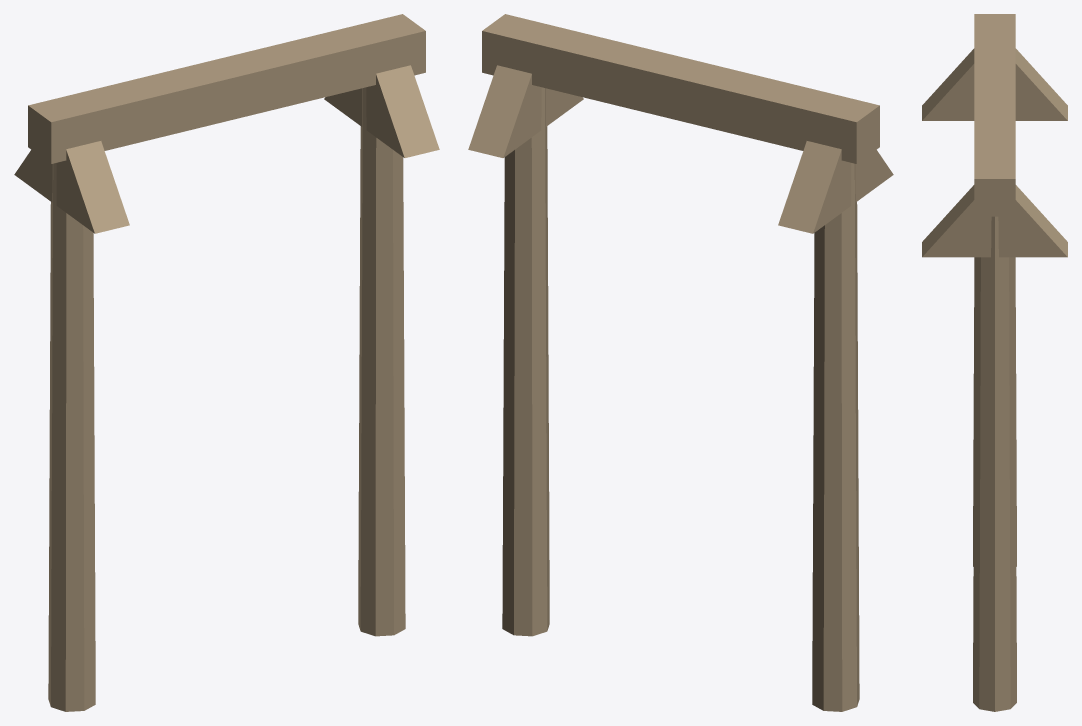
File: trench-line-1917-trench-frame-e513f8cf__24053.glb
3 renders of one model, left to right at view 1: azimuth 30°, elevation 25°; view 2: azimuth 150°, elevation 25°; view 3: azimuth 270°, elevation 25°, orthographic. The views are drawn at different scales.
Parts seen in each view (by area): view 1: trench-frame; view 2: trench-frame; view 3: trench-frame.
Boxes of the visible parts, left/top/right/bottom form: trench-frame: left=14, top=14, right=439, bottom=711; trench-frame: left=468, top=14, right=893, bottom=711; trench-frame: left=922, top=14, right=1067, bottom=711.
Size of the model in its own units: 1.5 by 2.28 by 0.56.
